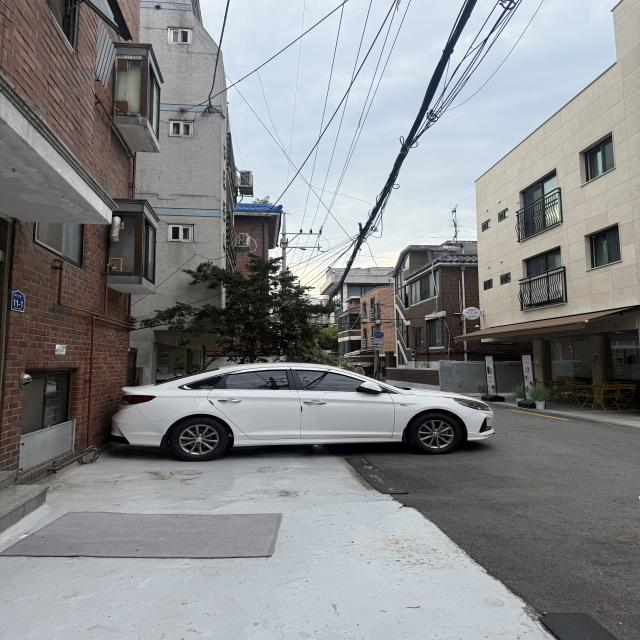car: (96, 348, 503, 466)
